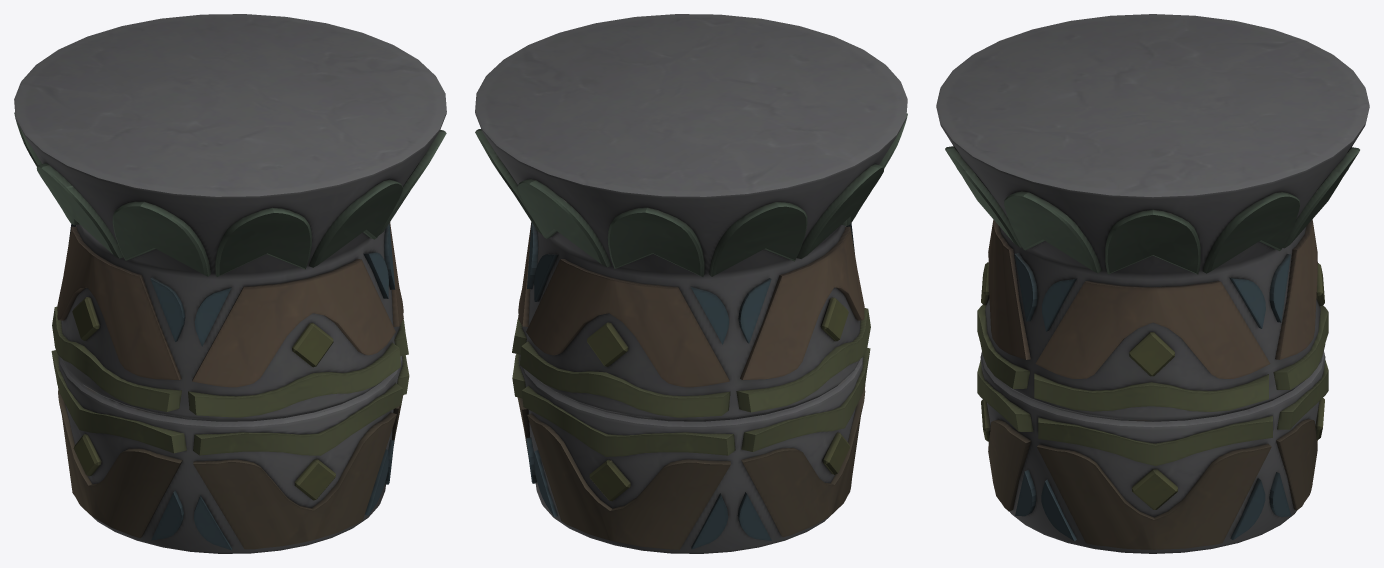
Rendered from totem.glb.
3 renders of one model, left to right at view 1: azimuth 30°, elevation 25°; view 2: azimuth 150°, elevation 25°; view 3: azimuth 270°, elevation 25°, orthographic.
Visible parts, largest first — view 1: Object_2; view 2: Object_2; view 3: Object_2.
Boxes of the visible parts, x1,y1,x2,y2 form: Object_2: [14, 14, 446, 553]; Object_2: [475, 14, 907, 553]; Object_2: [936, 14, 1369, 553].
Bounding box in the file's own units: 1.65 × 1.62 × 1.65.
Materials: 1 (1 with a texture image).
